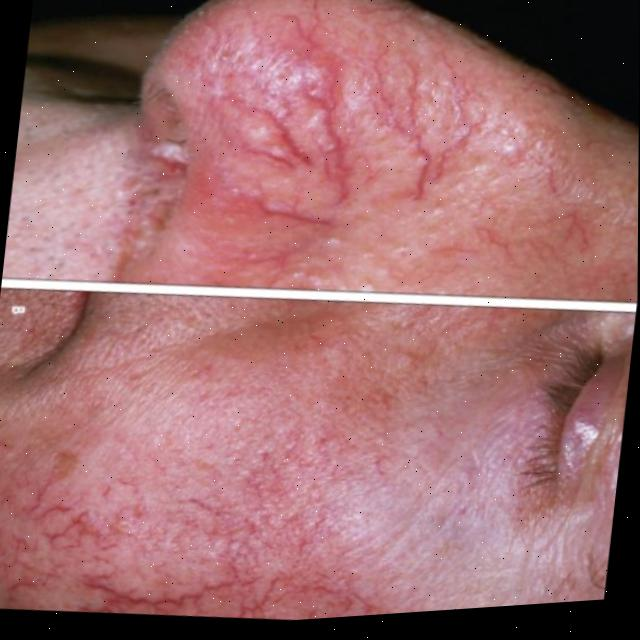Rosacea: (217, 46, 471, 237)
